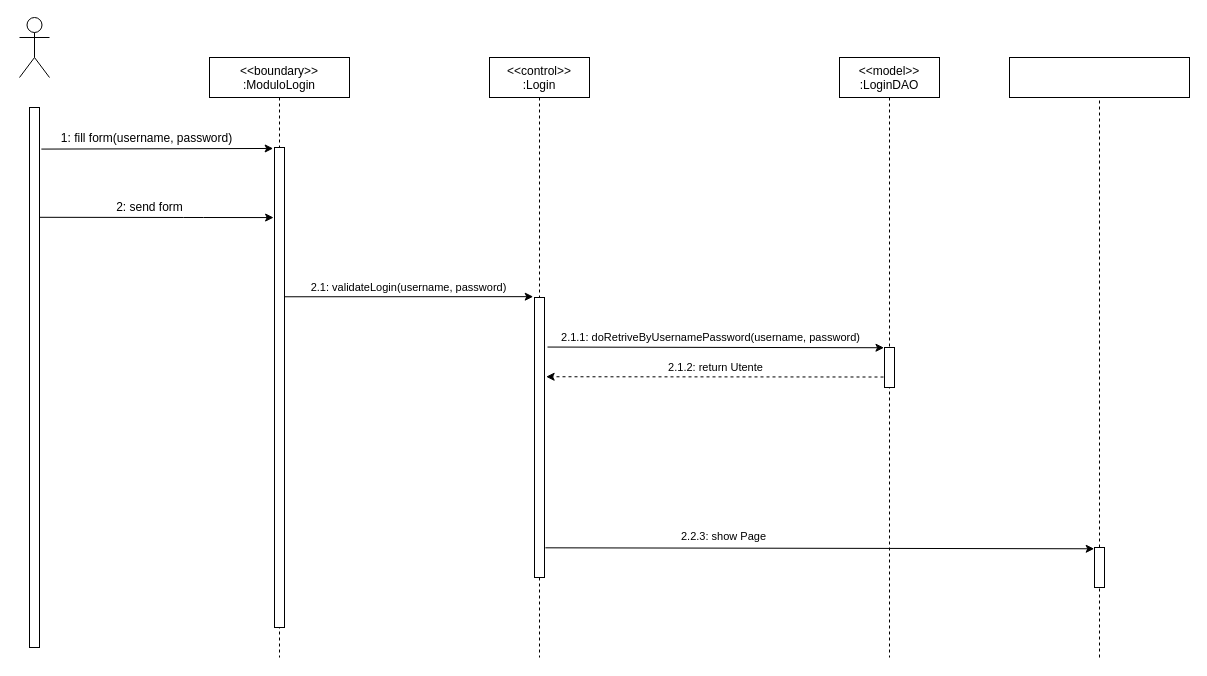
Some shapes in this 1207 by 676 pixel diagram are drawn without their labels. The shapes that lost their labels are listed below. From the top down, each one's box as (x1, y1, x2, y2) in pixels, then its label:
(18, 16, 50, 78): Utente
(1008, 56, 1190, 98): <<boundary>> :HomePage
